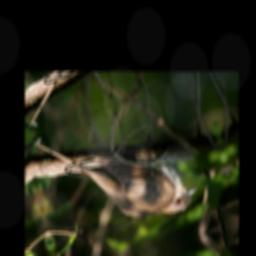Cuckoo: (33, 90, 203, 256)
